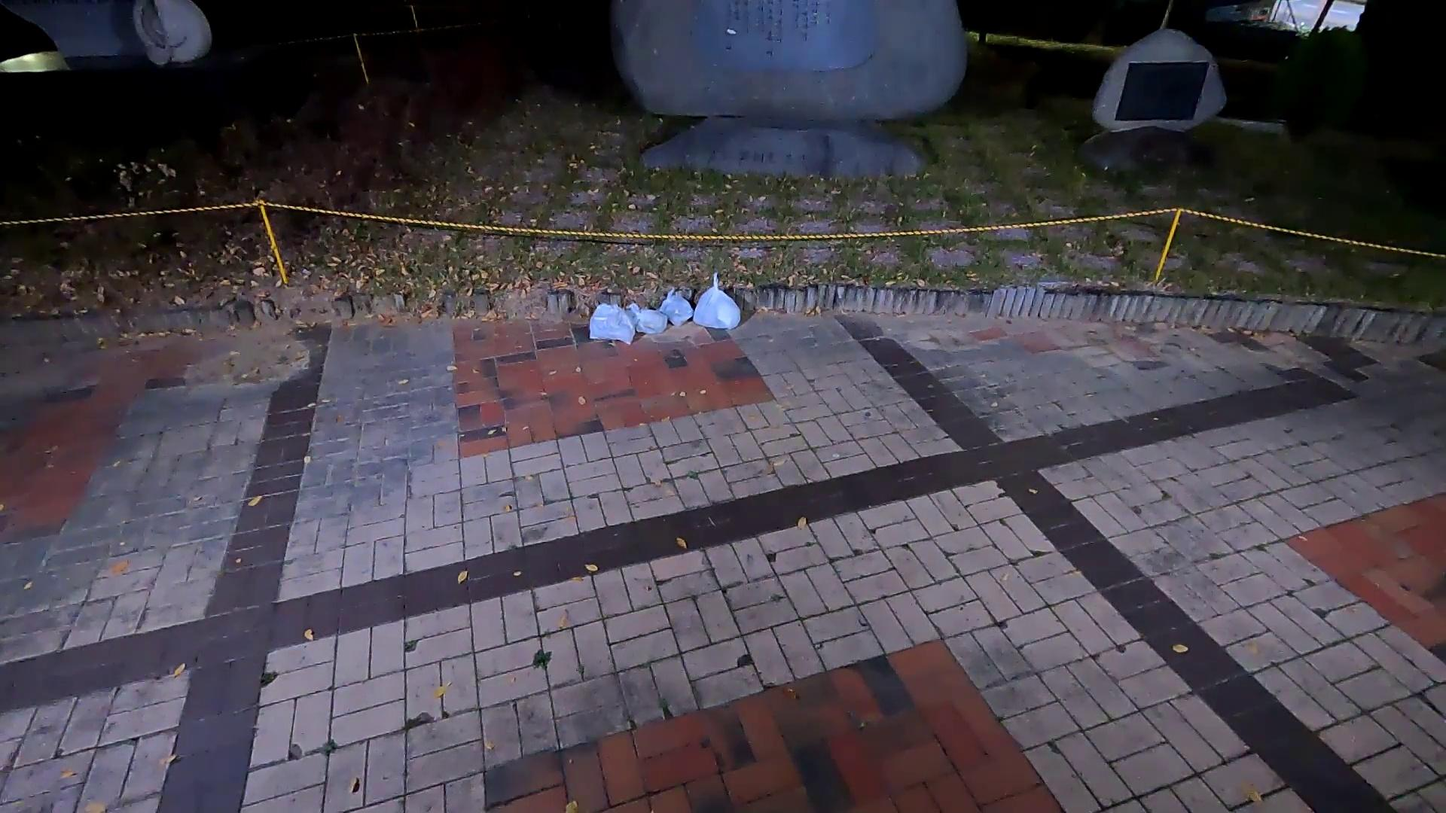trash: (693, 266, 746, 330), (586, 299, 632, 343), (630, 299, 671, 339), (658, 289, 696, 326)
